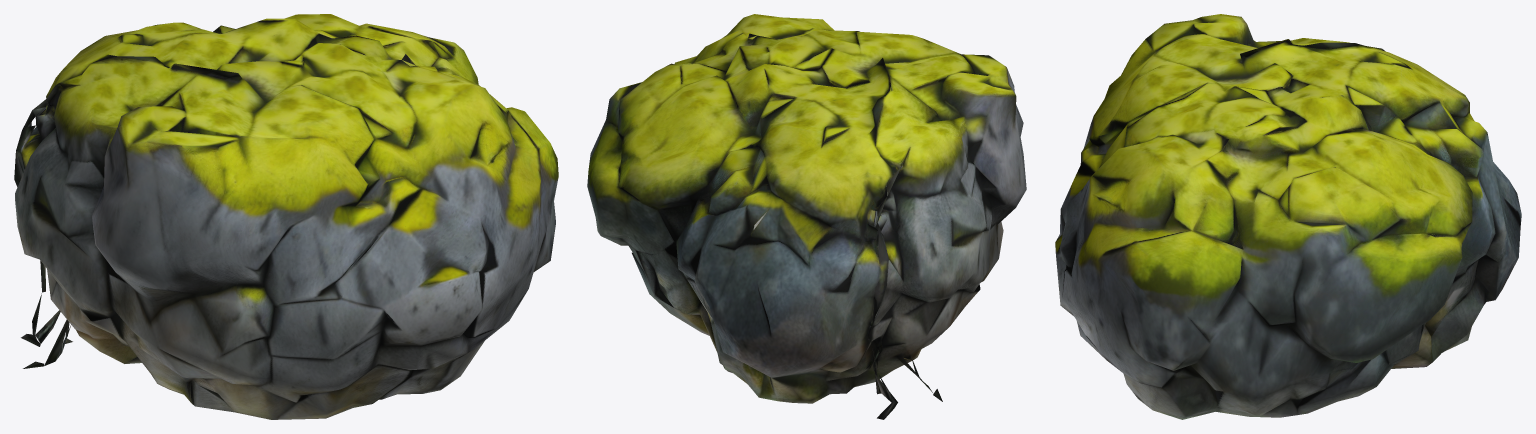
The model's file is RockFormation.glb.
3 renders of one model, left to right at view 1: azimuth 30°, elevation 25°; view 2: azimuth 150°, elevation 25°; view 3: azimuth 270°, elevation 25°, orthographic. The views are drawn at different scales.
Size of the model in its own units: 1.94 by 1.35 by 2.
1 material, 1 textured.
